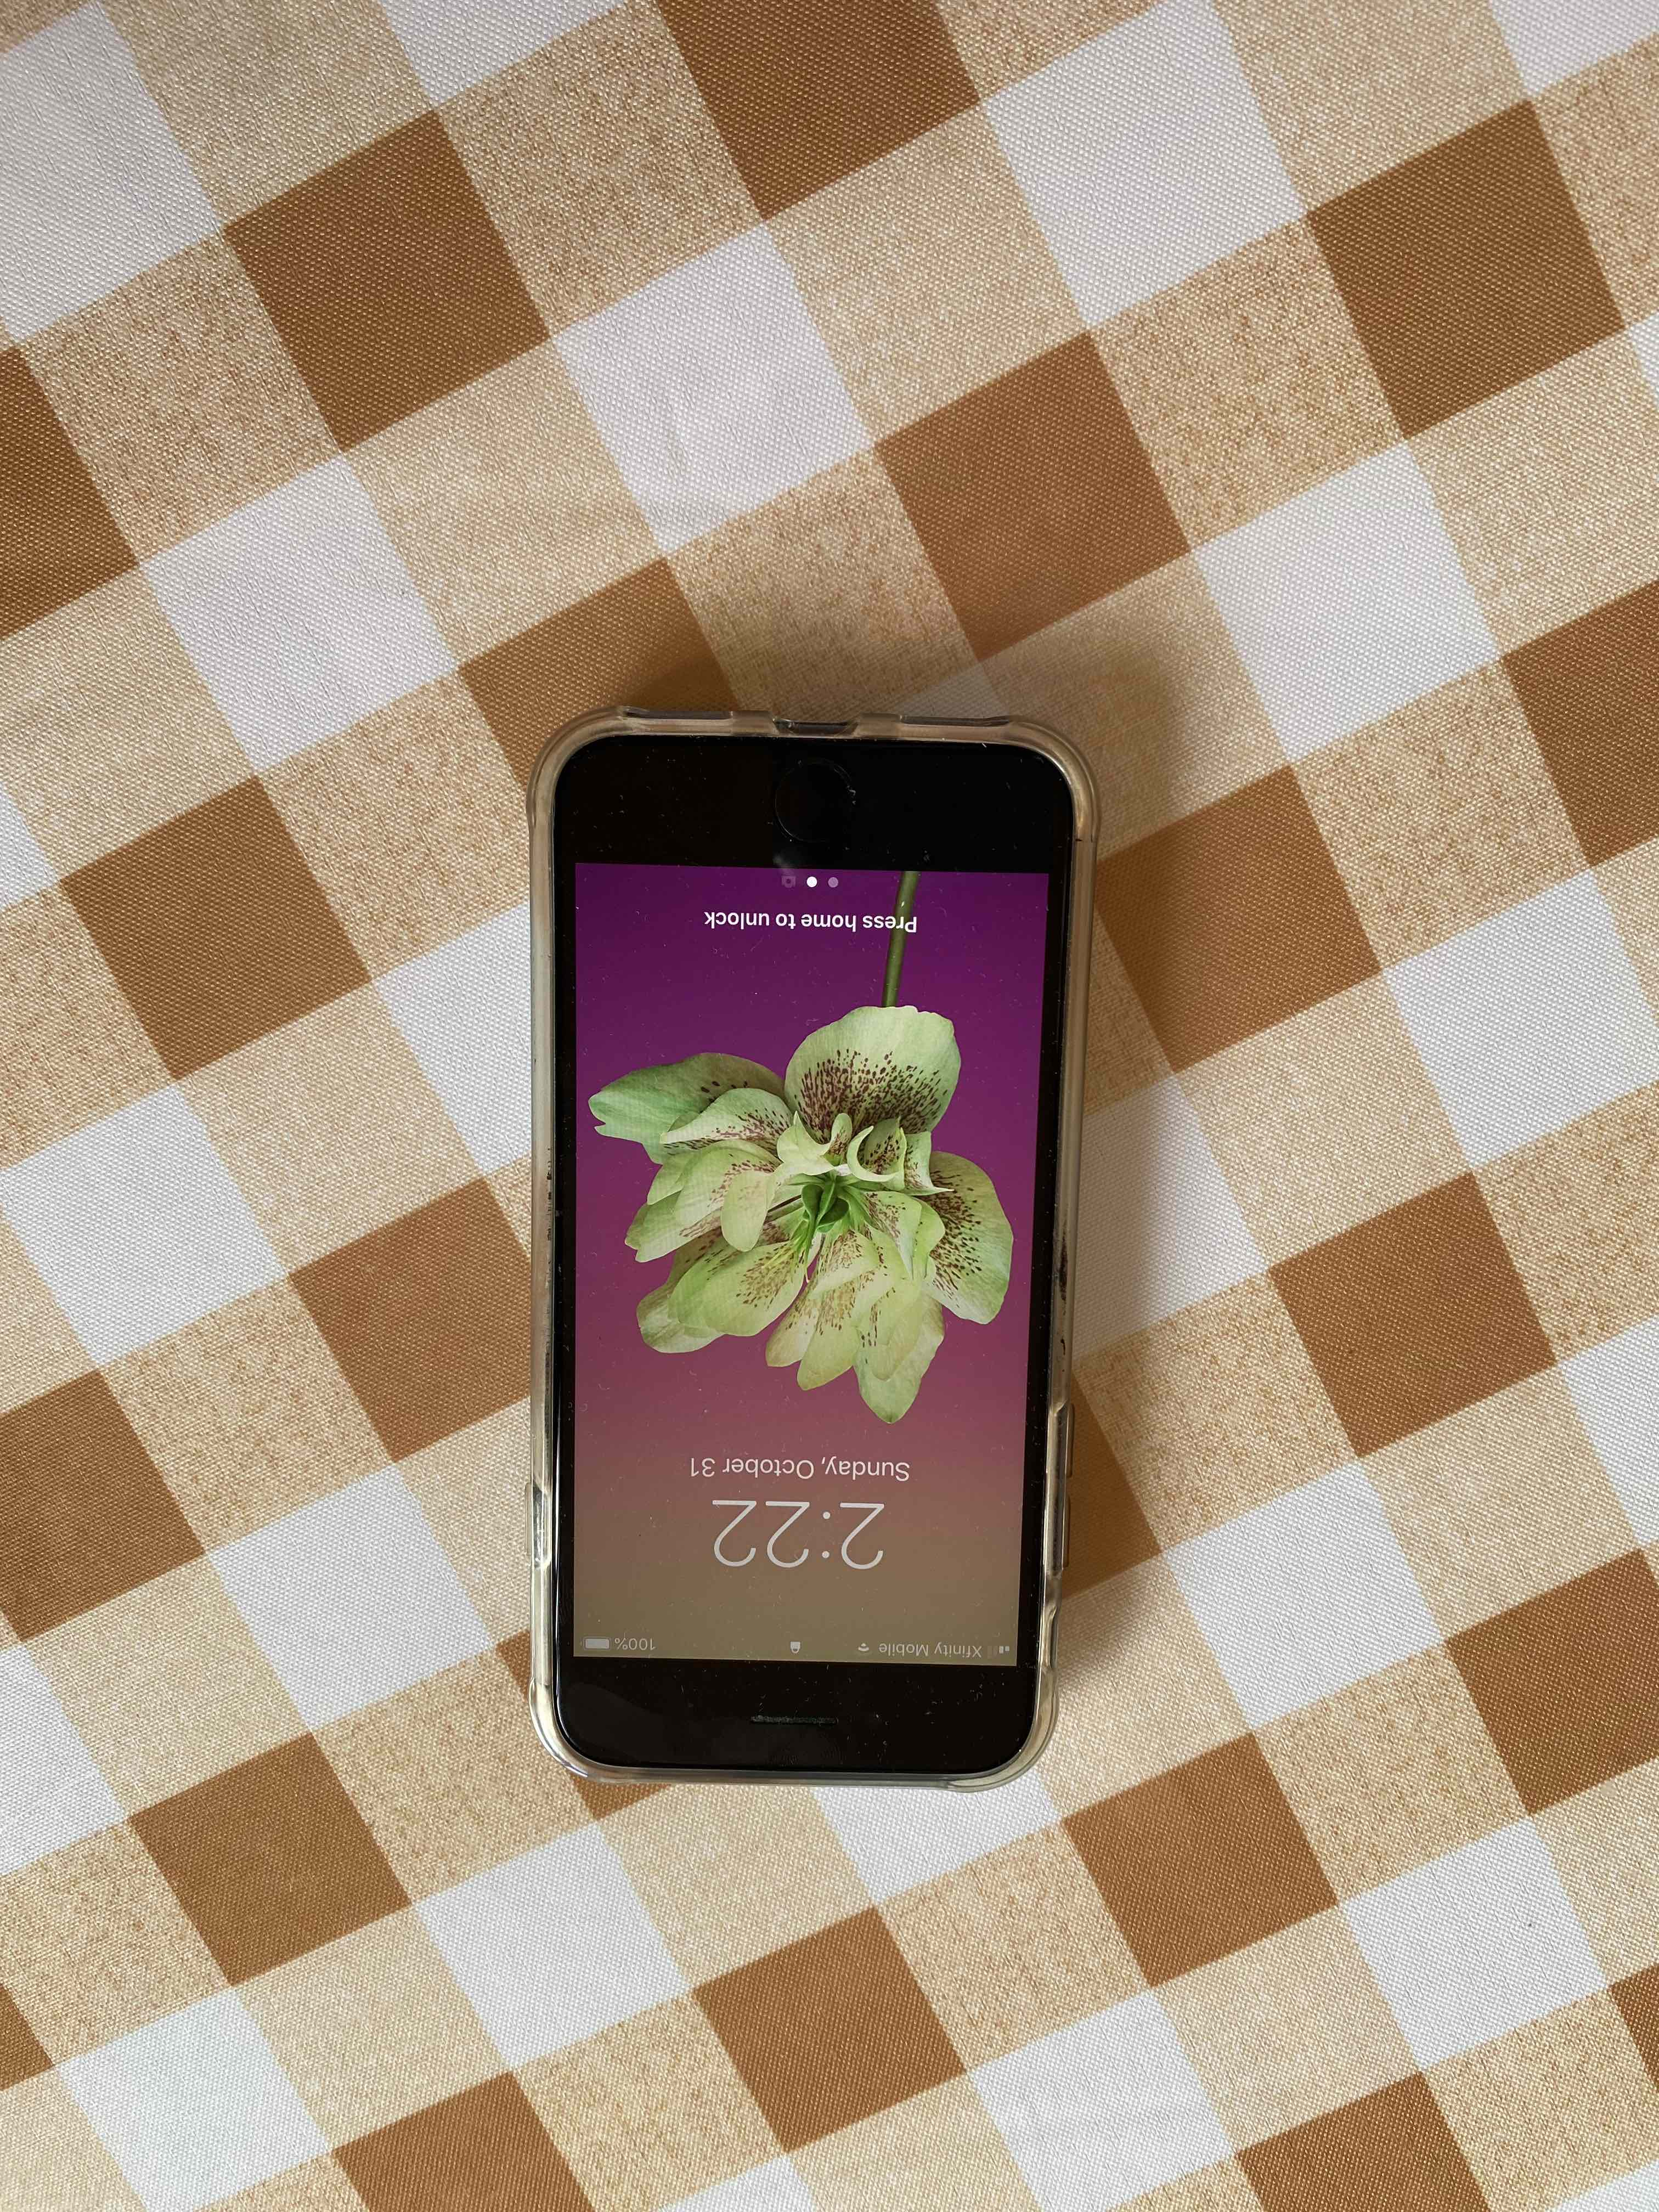Cell Phone: (533, 704, 1073, 1789)
